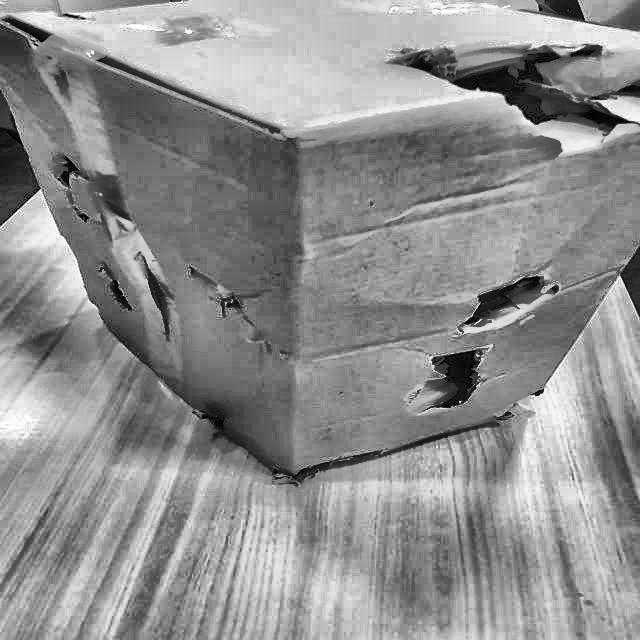box: (0, 0, 639, 498)
hole: (387, 40, 640, 157), (445, 267, 563, 339), (420, 347, 494, 419), (45, 151, 92, 237), (89, 266, 145, 319), (201, 277, 255, 331), (141, 265, 175, 330), (195, 392, 242, 437)
